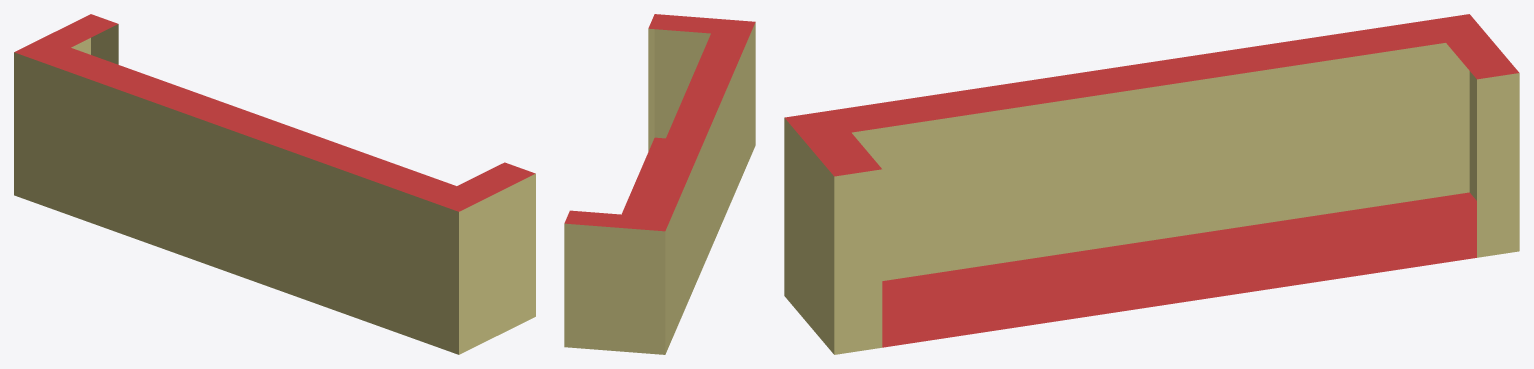
3 renders of one model, left to right at view 1: azimuth 30°, elevation 25°; view 2: azimuth 150°, elevation 25°; view 3: azimuth 270°, elevation 25°, orthographic. The views are drawn at different scales.
Size of the model in its own units: 17.95 by 34.32 by 9.19.
